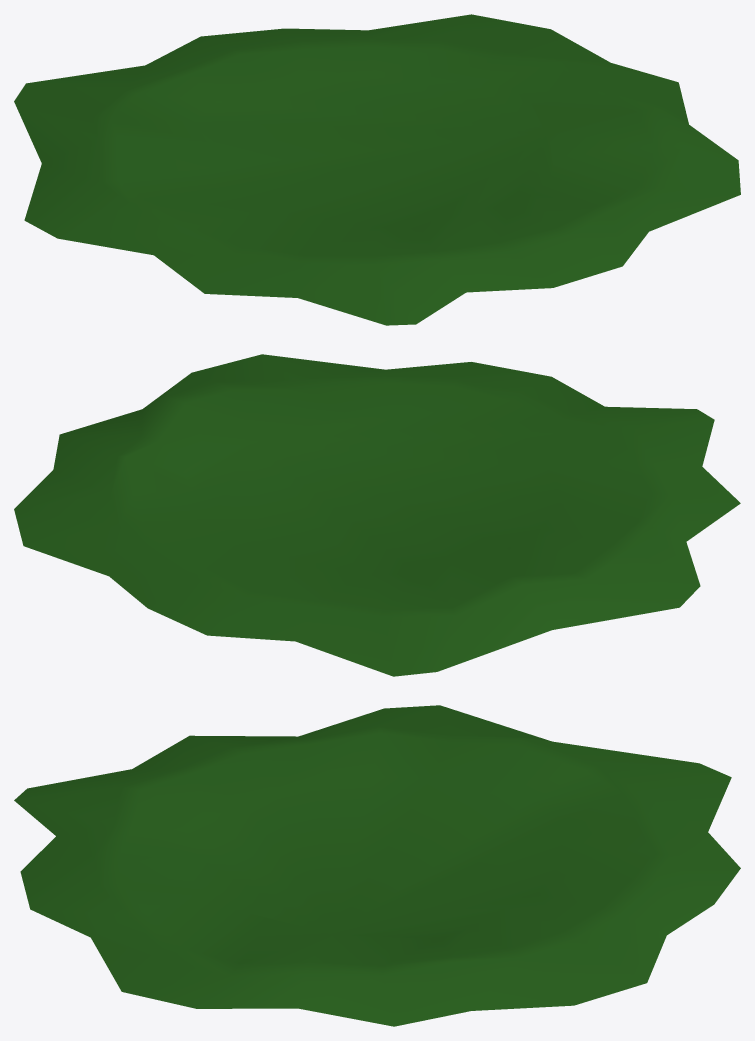
The model's file is dixing11.FBX.
The picture shows the model from 3 angles, top to bottom: view 1: azimuth 30°, elevation 25°; view 2: azimuth 150°, elevation 25°; view 3: azimuth 270°, elevation 25°; orthographic projection. The views are drawn at different scales.
Visible parts, largest first — view 1: Crater01; view 2: Crater01; view 3: Crater01.
Boxes of the visible parts, x1,y1,x2,y2 form: Crater01: [14, 14, 740, 325]; Crater01: [14, 354, 740, 676]; Crater01: [14, 705, 740, 1026].
Bounding box in the file's own units: 6.87 × 0.26 × 6.56.
